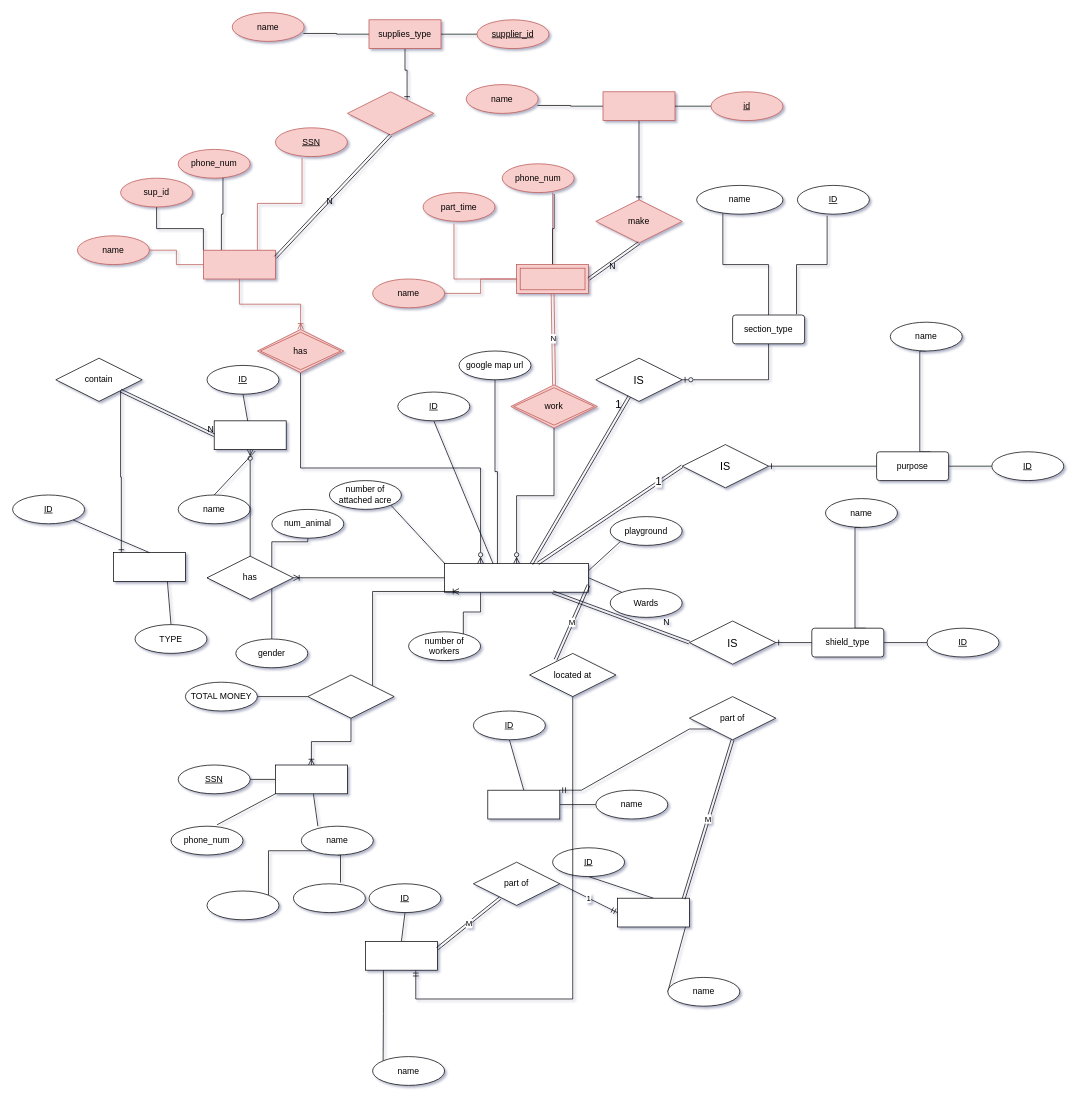
Some shapes in this 1081 by 1102 pixel diagram are drawn without their labels. The centre of each missing label's shape, as x and y in pixels:
"city" belongs at (653,912).
"f_name" belongs at (329,898).
"farm" belongs at (516,577).
"gavernorate" belongs at (523,804).
"l_name" belongs at (242,905).
"own" belongs at (350,696).
"platoon" belongs at (149,566).
"Species" belongs at (249,435).
"SUPPLIER" belongs at (239,264).
"supply" belongs at (390,113).
"type_of_work" belongs at (638,106).
"User" belongs at (311,779).
"Village" belongs at (401,955).
"workers" belongs at (552,278).
